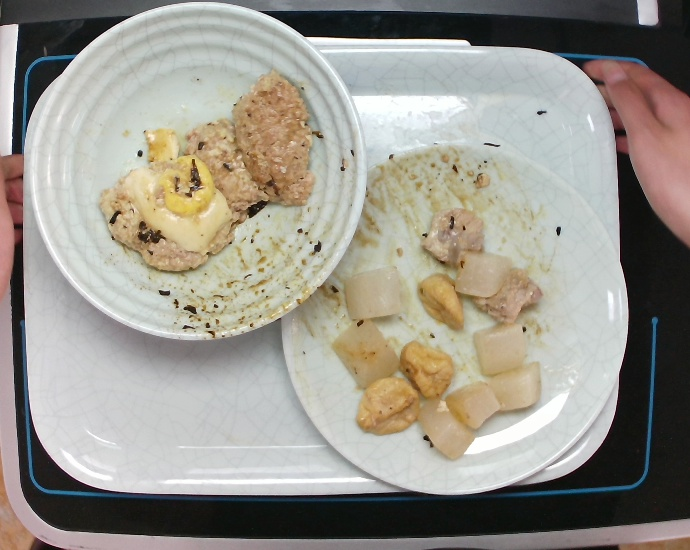JYsf-Da_Tang_Wan: (27, 1, 369, 343)
JYsf-Da_Yuan_Pan: (279, 139, 630, 497)
